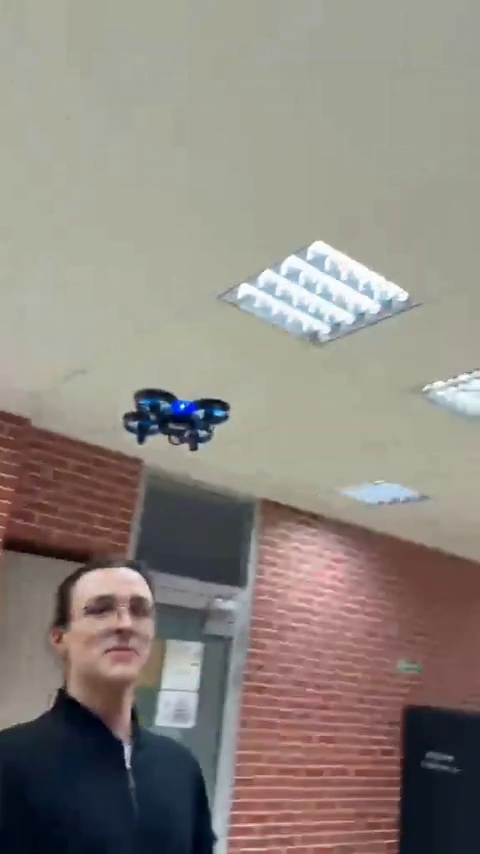drone: (119, 391, 229, 447)
no vest: (0, 557, 218, 852)
